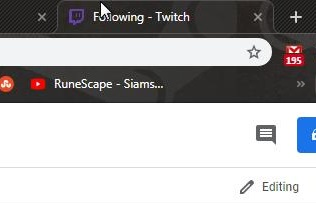cursor: (96, 1, 113, 22)
